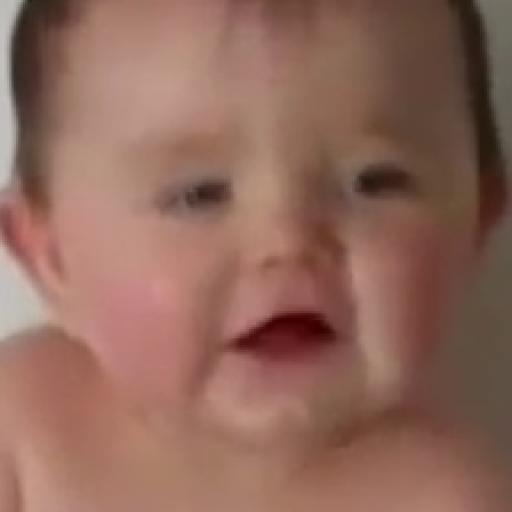Autism: (44, 6, 460, 456)
